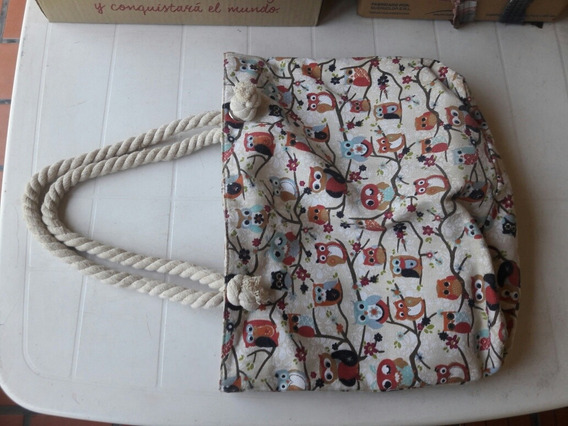cartera: (23, 50, 524, 394)
